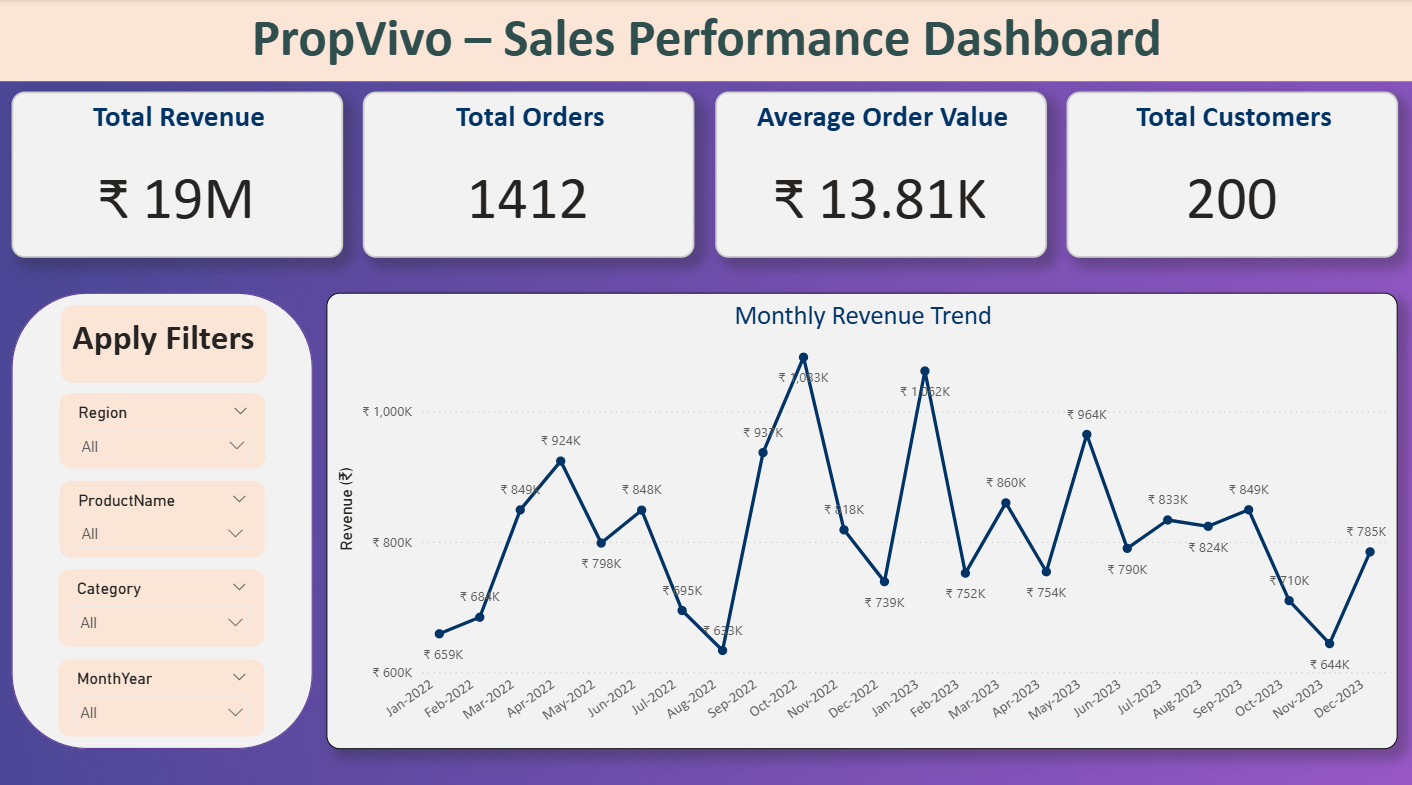

This screenshot's page, from the dashboard's own definition file:
{"tool":"powerbi","page":{"name":"Overview","canvas":[1280,720],"ordinal":0},"visuals":[{"type":"textbox","box":[0,0,1280.2,74.4],"z":0},{"type":"shape","box":[11.3,265.7,272.5,412.7],"z":0,"group":"g2"},{"type":"card","title":"Total Revenue","fields":{"Values":["Sales.Total Revenue"]},"box":[10.9,83.7,300,150],"z":1000},{"type":"group","id":"g1","title":"Group 1","box":[52,275.9,192.2,392.3],"z":1000,"group":"g2"},{"type":"textbox","box":[54.3,275.9,190,72.5],"z":1000,"group":"g1"},{"type":"card","title":"Total Orders","fields":{"Values":["Sales.Total Orders"]},"box":[329.1,83.7,300,150],"z":2000},{"type":"slicer","fields":{"Values":["Sales.Region"]},"box":[53.1,355.6,190,71.4],"z":2000,"group":"g1"},{"type":"card","title":"Average Order Value","fields":{"Values":["Sales.Average Order Value"]},"box":[647.9,83.7,299.6,150.4],"z":3000},{"type":"card","title":"Total Customers","fields":{"Values":["Sales.Total Customers"]},"box":[965.6,83.7,300,150],"z":4000},{"type":"slicer","fields":{"Values":["Products.ProductName"]},"box":[53.1,434.3,188.8,72.5],"z":4000,"group":"g1"},{"type":"lineChart","title":"Monthly Revenue Trend","fields":{"Category":["Sales.MonthYear"],"Y":["Sales.Total Revenue"]},"box":[296.2,265.7,969,412.7],"z":5000},{"type":"slicer","title":"Filter by Month","fields":{"Values":["Sales.MonthYear"]},"box":[52,595.8,190,72.5],"z":5000,"group":"g1"},{"type":"slicer","fields":{"Values":["Products.Category"]},"box":[52,515,190,72.5],"z":6000,"group":"g1"},{"type":"group","id":"g2","title":"Group 2","box":[11.3,265.7,272.5,412.7],"z":6002}]}

Visuals, with their boxes in screenshot pixels (x1, y1, x2, y2), scaled from the page's 1280x720 canvas onto the 1412x785 screenshot:
textbox: 0:0:1411:81
shape: 12:290:313:740
"Total Revenue" card: 12:91:343:255
"Group 1" group: 57:301:269:729
textbox: 60:301:269:380
"Total Orders" card: 363:91:694:255
slicer - Sales.Region: 59:388:268:466
"Average Order Value" card: 715:91:1045:255
"Total Customers" card: 1065:91:1396:255
slicer - Products.ProductName: 59:474:267:553
"Monthly Revenue Trend" lineChart: 327:290:1396:740
"Filter by Month" slicer: 57:650:267:729
slicer - Products.Category: 57:561:267:641
"Group 2" group: 12:290:313:740
